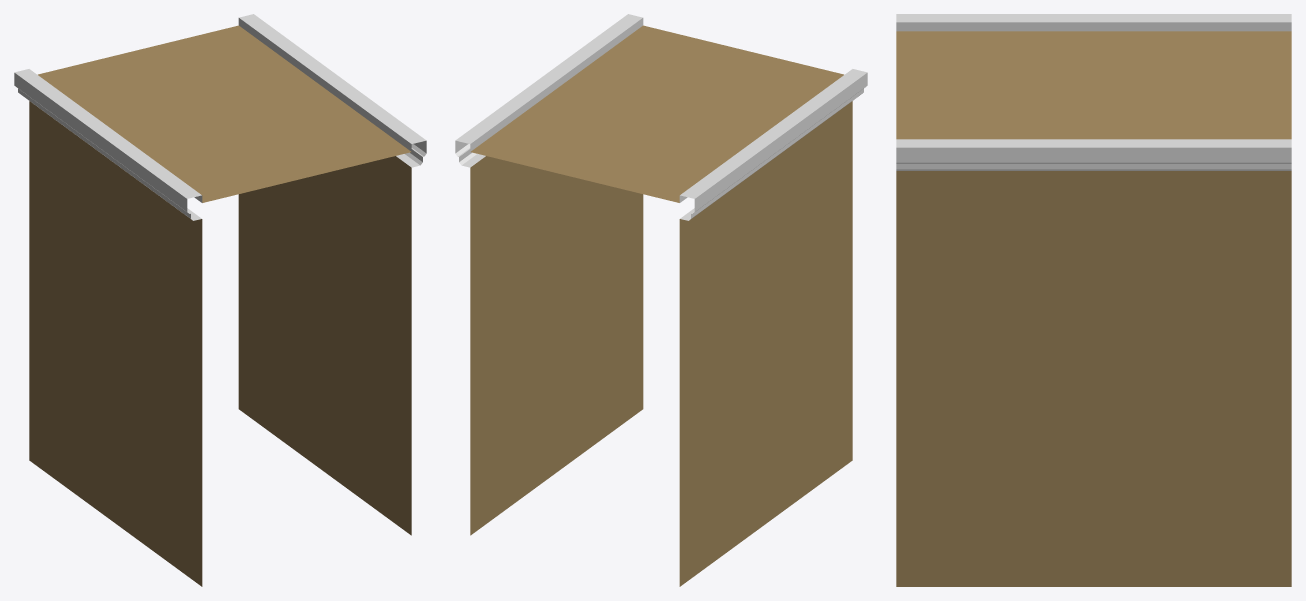
The model's file is Building_rooftop_middle.fbx.
3 renders of one model, left to right at view 1: azimuth 30°, elevation 25°; view 2: azimuth 150°, elevation 25°; view 3: azimuth 270°, elevation 25°, orthographic. The views are drawn at different scales.
Visible parts, largest first — view 1: Building_rooftop; view 2: Building_rooftop; view 3: Building_rooftop.
Boxes of the visible parts, left/top/right/bottom form: Building_rooftop: left=14, top=14, right=426, bottom=586; Building_rooftop: left=455, top=14, right=867, bottom=586; Building_rooftop: left=896, top=14, right=1291, bottom=586.
Size of what is drawn, in the model's own units: 6400 by 10000 by 8003.
